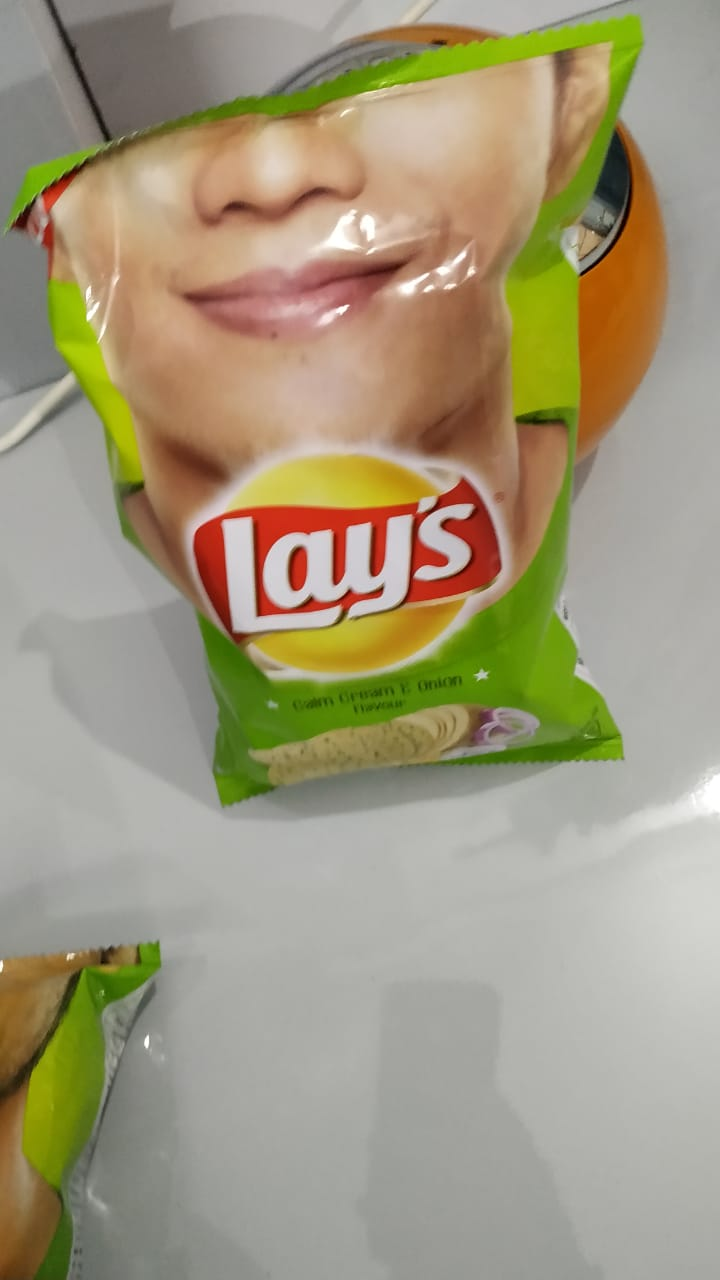lays chips: (19, 21, 662, 810)
